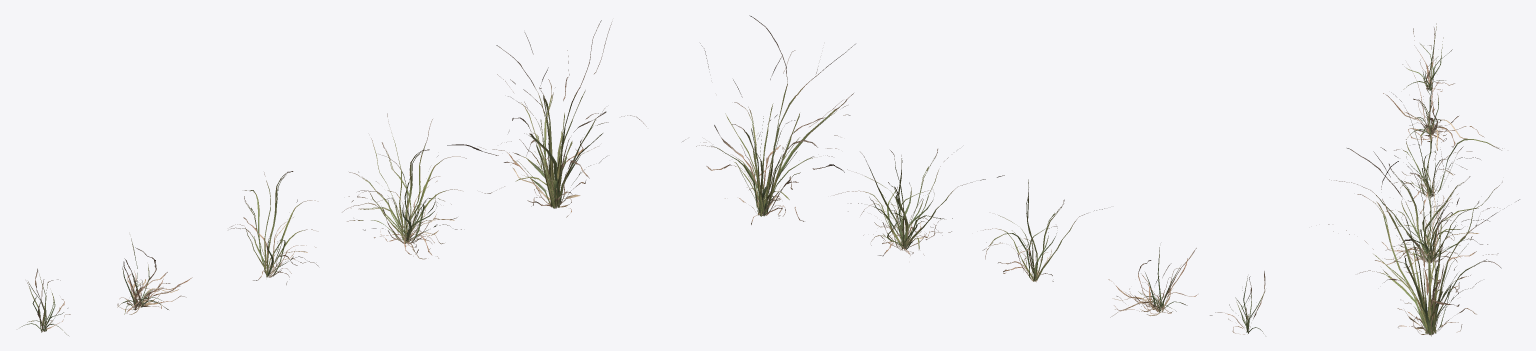
The model's file is grass_medium_02.glb.
3 views of the same model, side by side, from view 1: azimuth 30°, elevation 25°; view 2: azimuth 150°, elevation 25°; view 3: azimuth 270°, elevation 25° (orthographic). The views are drawn at different scales.
Parts seen in each view (by area): view 1: grass_medium_02_e, grass_medium_02_d, grass_medium_02_c, grass_medium_02_b, grass_medium_02_a; view 2: grass_medium_02_e, grass_medium_02_d, grass_medium_02_c, grass_medium_02_b, grass_medium_02_a; view 3: grass_medium_02_e, grass_medium_02_d, grass_medium_02_c, grass_medium_02_b, grass_medium_02_a.
Boxes of the visible parts, left/top/right/bottom form: grass_medium_02_e: left=447, top=20, right=646, bottom=217; grass_medium_02_d: left=342, top=113, right=466, bottom=259; grass_medium_02_c: left=229, top=171, right=318, bottom=284; grass_medium_02_b: left=117, top=238, right=192, bottom=314; grass_medium_02_a: left=20, top=268, right=70, bottom=335; grass_medium_02_e: left=682, top=15, right=855, bottom=224; grass_medium_02_d: left=833, top=149, right=1004, bottom=256; grass_medium_02_c: left=982, top=179, right=1104, bottom=281; grass_medium_02_b: left=1108, top=247, right=1197, bottom=317; grass_medium_02_a: left=1210, top=271, right=1265, bottom=334; grass_medium_02_e: left=1328, top=148, right=1519, bottom=336; grass_medium_02_d: left=1329, top=146, right=1502, bottom=273; grass_medium_02_c: left=1391, top=92, right=1502, bottom=214; grass_medium_02_b: left=1383, top=60, right=1484, bottom=150; grass_medium_02_a: left=1402, top=23, right=1454, bottom=91.
Bounding box in the file's own units: 1.31 × 0.4053 × 0.4326.
1 material, 1 textured.
